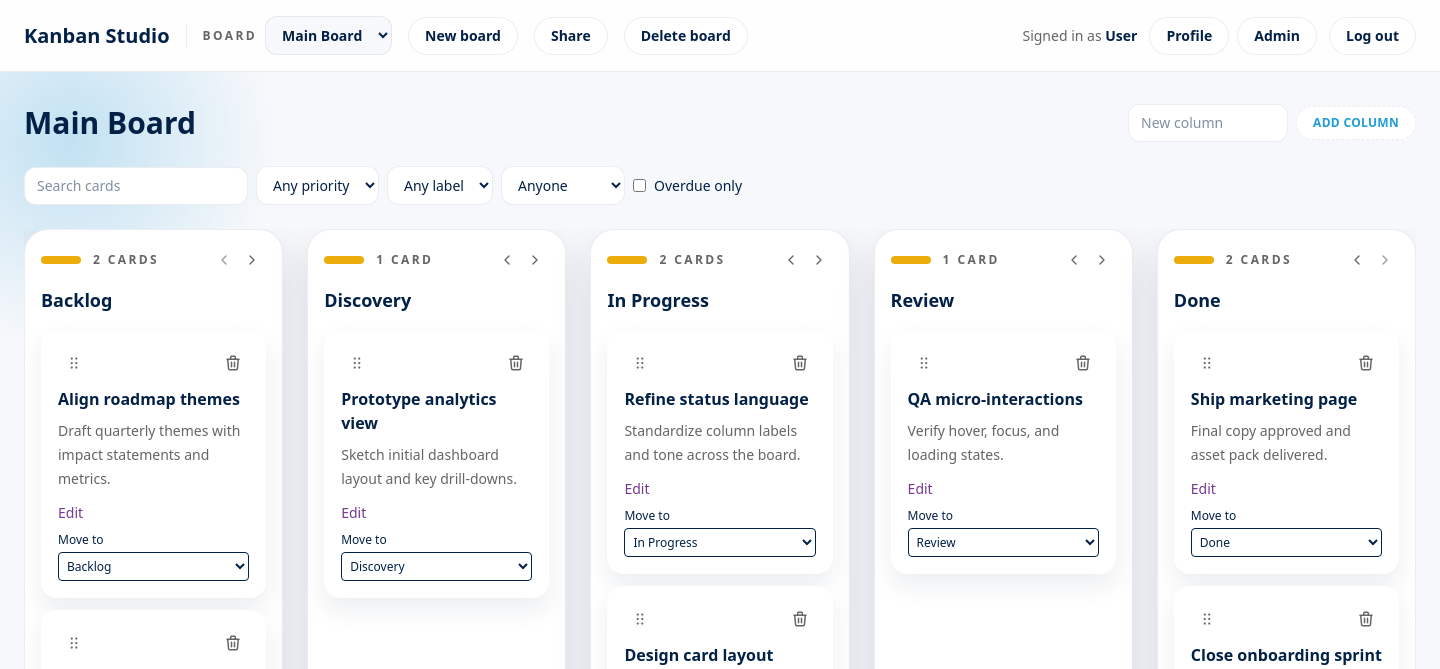
Scenario: opens sharing for the owner and reloads the board after member changes
The width and height of the screenshot is (1440, 669).
Expected: the field named "Board name" is shown, 24,105 -> 1116,141
Click the button "Share" at (571, 36), box 534,16 -> 608,54
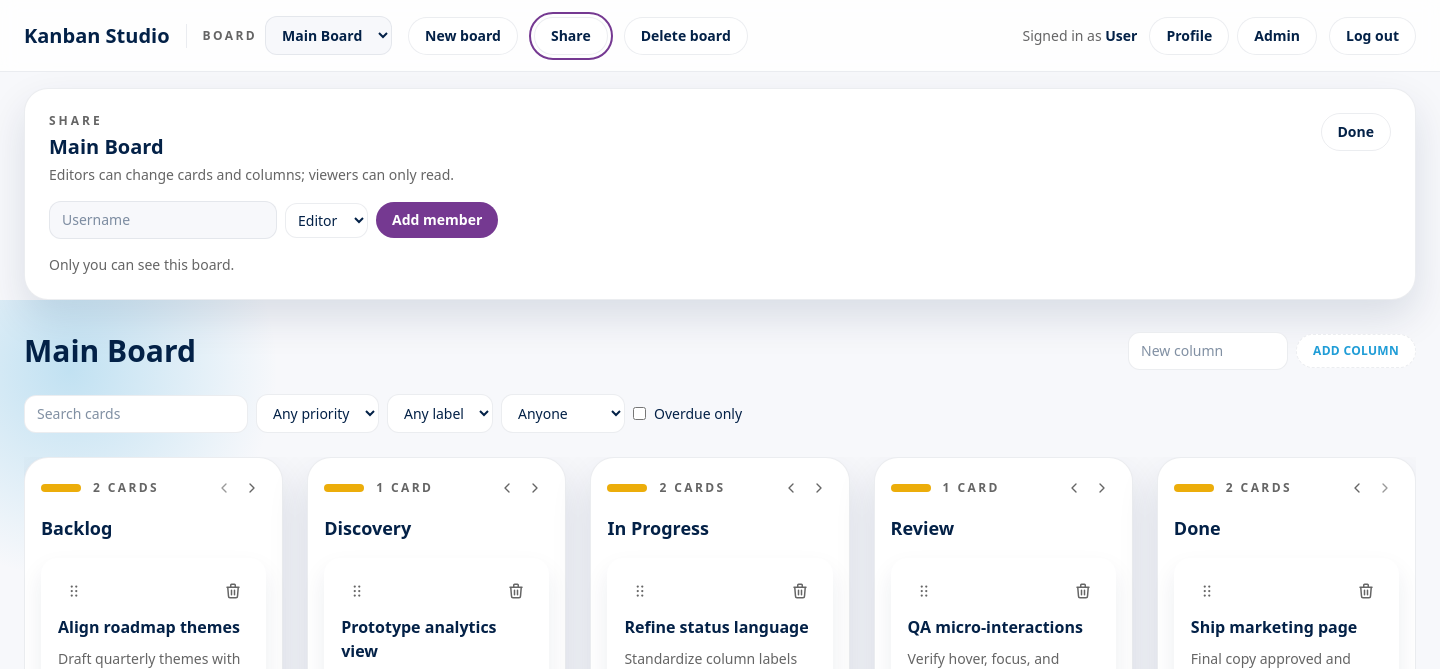
Type "alice" into the field named "Username to share with" at (163, 220), box 49,201 -> 277,239
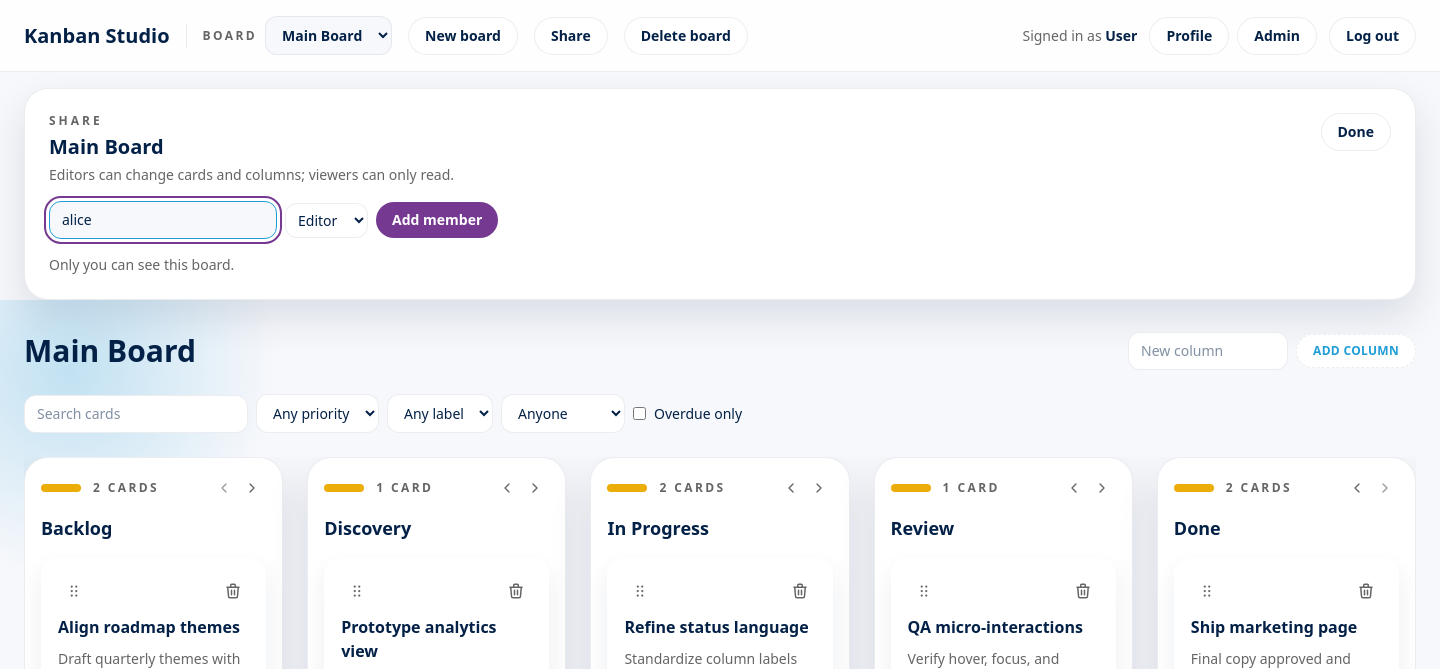
Click the button "Add member" at (437, 220), box 376,202 -> 498,238
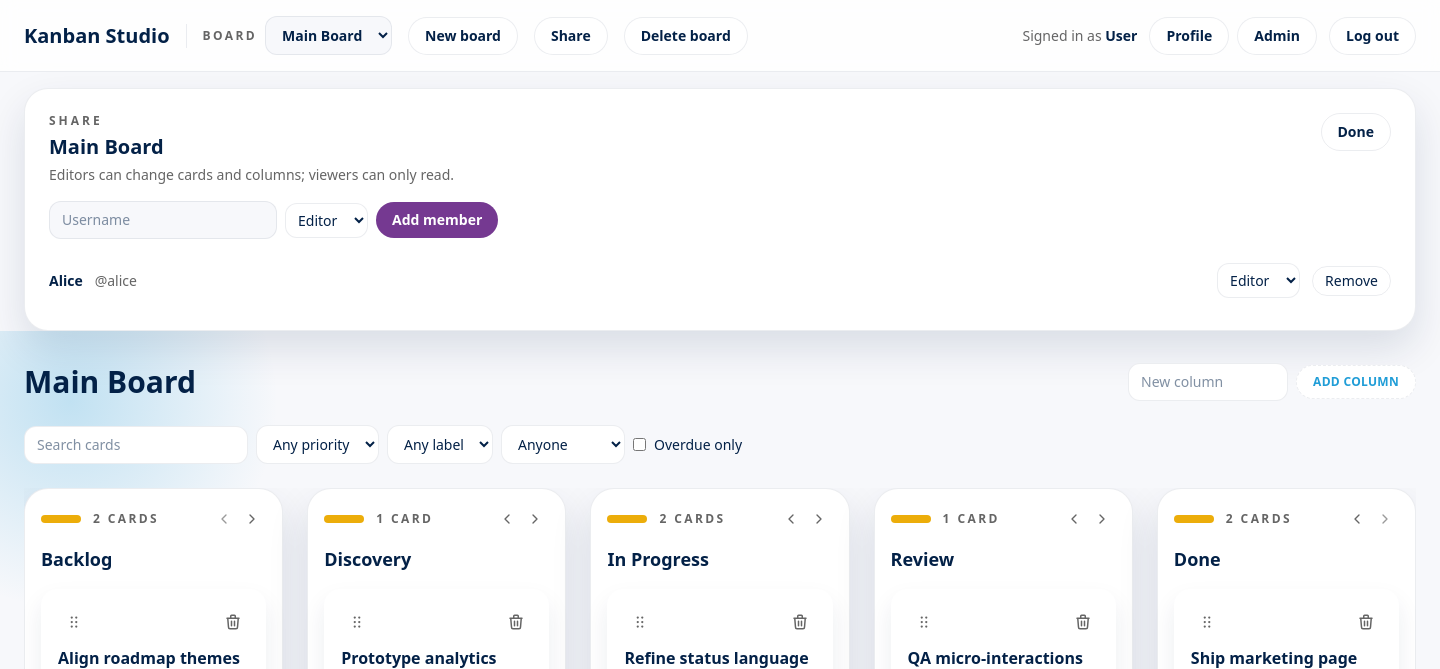
Now the text "@alice" is shown, box 95,270 -> 137,290
Click the button "Done" at (1356, 132), box 1320,113 -> 1391,151
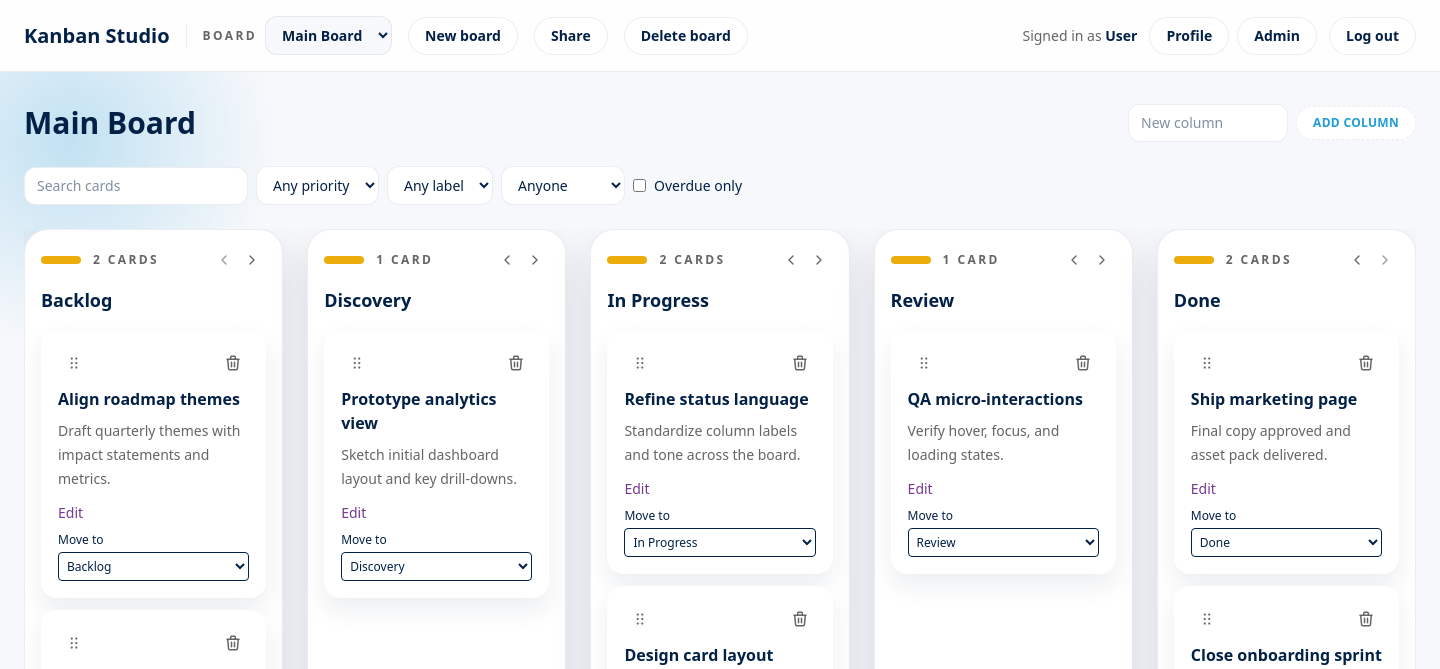
Now the dialog is gone
